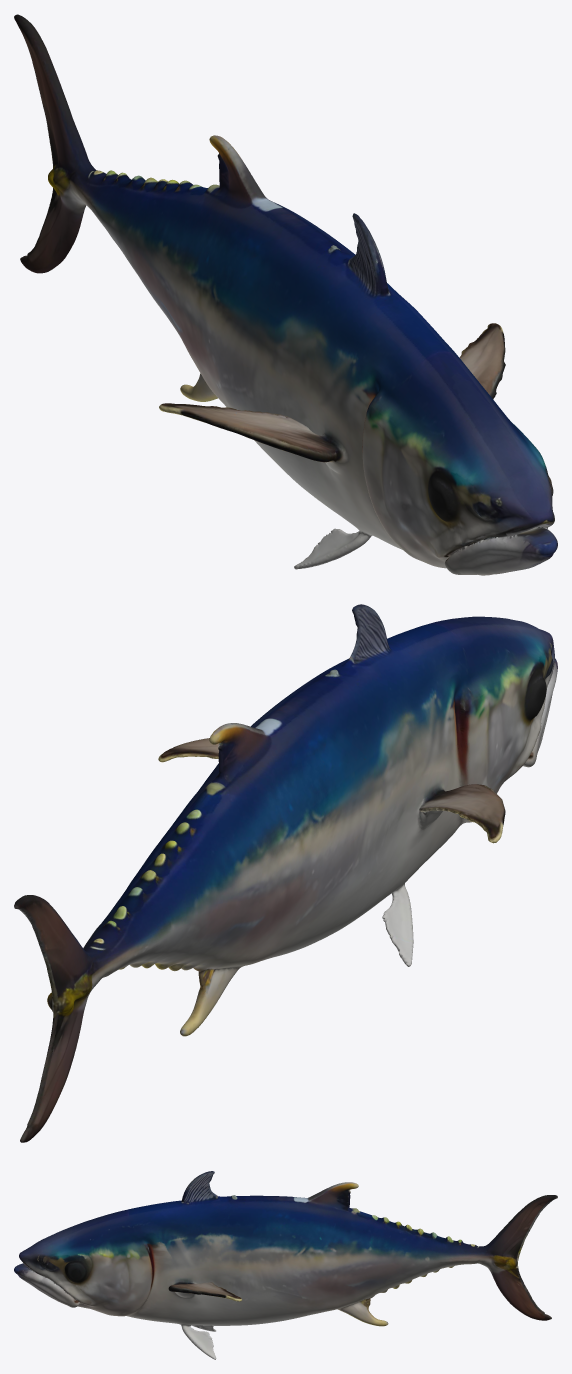
File: fish_bigeye_tuna.glb
3 renders of one model, top to bottom at view 1: azimuth 30°, elevation 25°; view 2: azimuth 150°, elevation 25°; view 3: azimuth 270°, elevation 25°, orthographic. The views are drawn at different scales.
Visible parts, largest first — view 1: tripo_node_e21998c4-0d6d-4f2d-ba54-d1a30aa1daf8; view 2: tripo_node_e21998c4-0d6d-4f2d-ba54-d1a30aa1daf8; view 3: tripo_node_e21998c4-0d6d-4f2d-ba54-d1a30aa1daf8.
Part boxes in pixels (box(x1,y1,x2,y2)): tripo_node_e21998c4-0d6d-4f2d-ba54-d1a30aa1daf8: box(14, 14, 557, 575); tripo_node_e21998c4-0d6d-4f2d-ba54-d1a30aa1daf8: box(14, 604, 557, 1142); tripo_node_e21998c4-0d6d-4f2d-ba54-d1a30aa1daf8: box(14, 1171, 557, 1359).
Bounding box in the file's own units: 0.3654 × 0.3543 × 1.
Materials: 1 (1 with a texture image).
